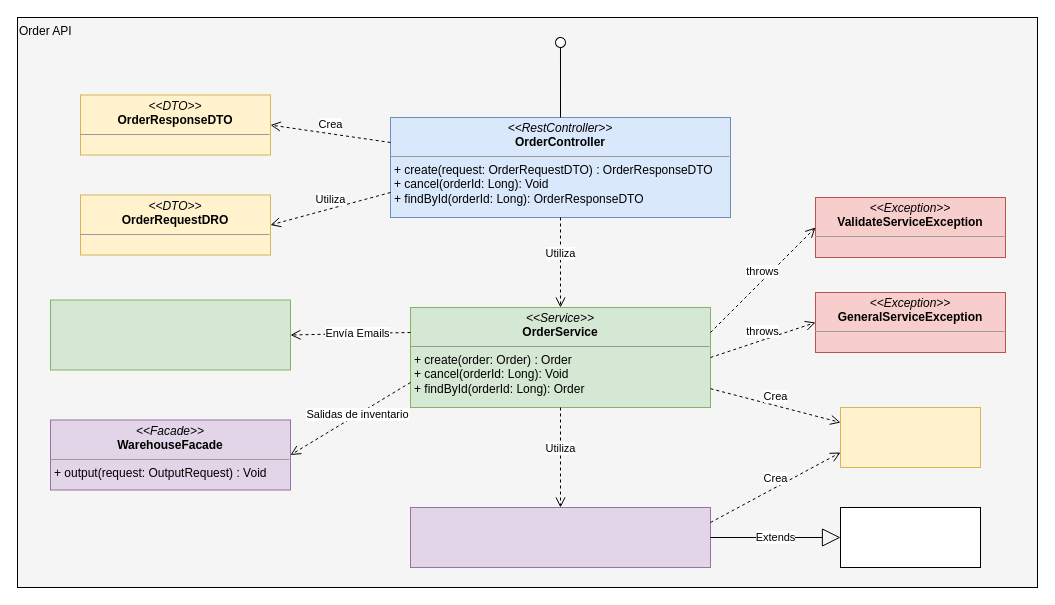
Image size: 1055x605. Some labels were removed from this diagram. The centre of each missing label's shape, as x and y in pixels:
"<<Entity>> Order" goes at point 910,437.
"<<Interfaz>> JpaRepository" goes at point 910,537.
"<<JpaRepository>> OrderRespository" goes at point 560,537.
"<<Service>> Email Sender + create(request: SenderRequest) : Void" goes at point 170,334.
